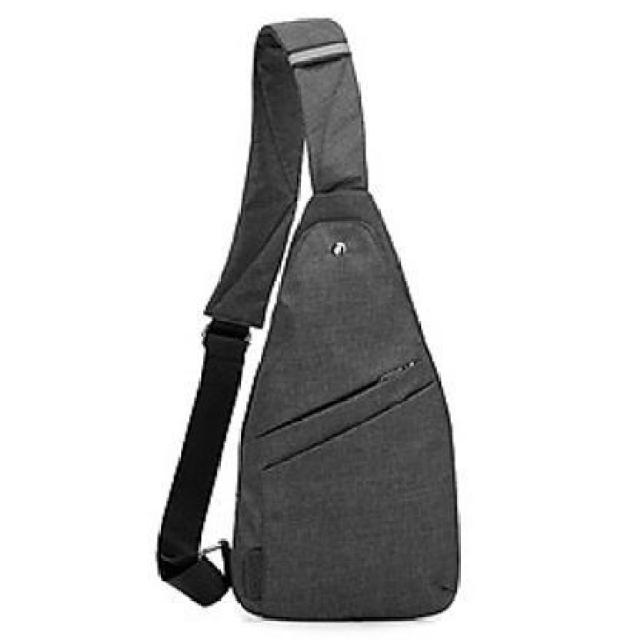not trash: (160, 17, 465, 623)
